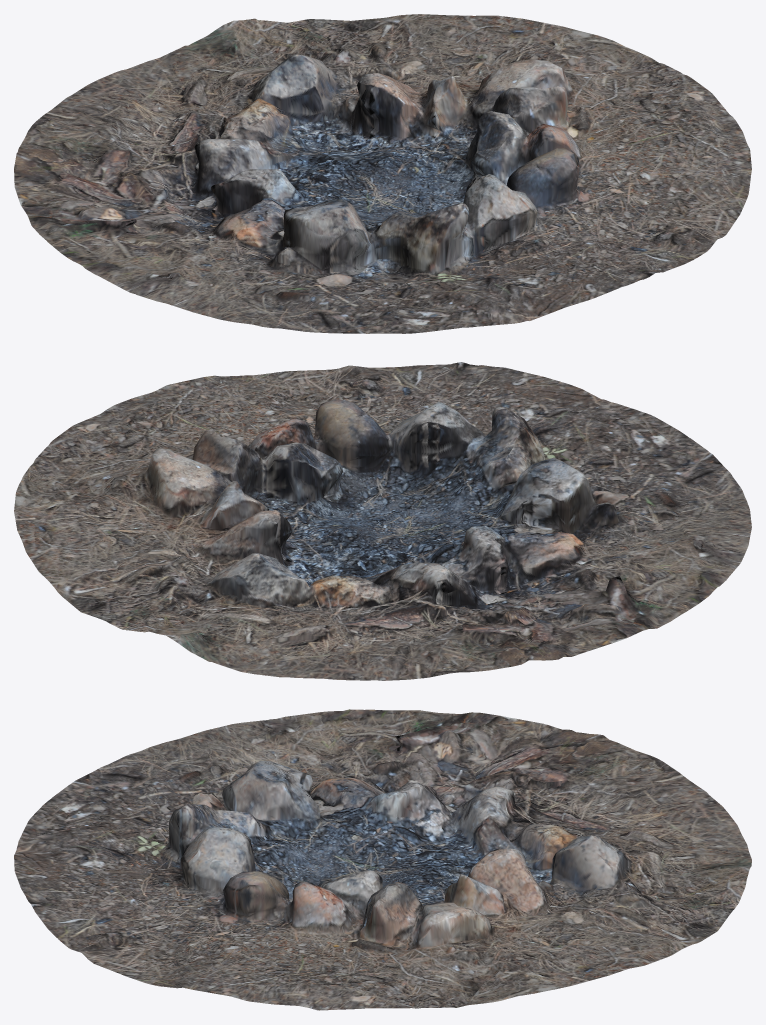
File: campfire.glb
The picture shows the model from 3 angles, top to bottom: view 1: azimuth 30°, elevation 25°; view 2: azimuth 150°, elevation 25°; view 3: azimuth 270°, elevation 25°; orthographic projection.
Parts seen in each view (by area): view 1: Object_2; view 2: Object_2; view 3: Object_2.
Boxes of the visible parts, box(x1,y1,x2,y2) form: Object_2: box(14, 14, 751, 333); Object_2: box(14, 362, 751, 680); Object_2: box(14, 709, 751, 1010).
Size of the model in its own units: 118 by 12.27 by 118.
Materials: 1 (1 with a texture image).
